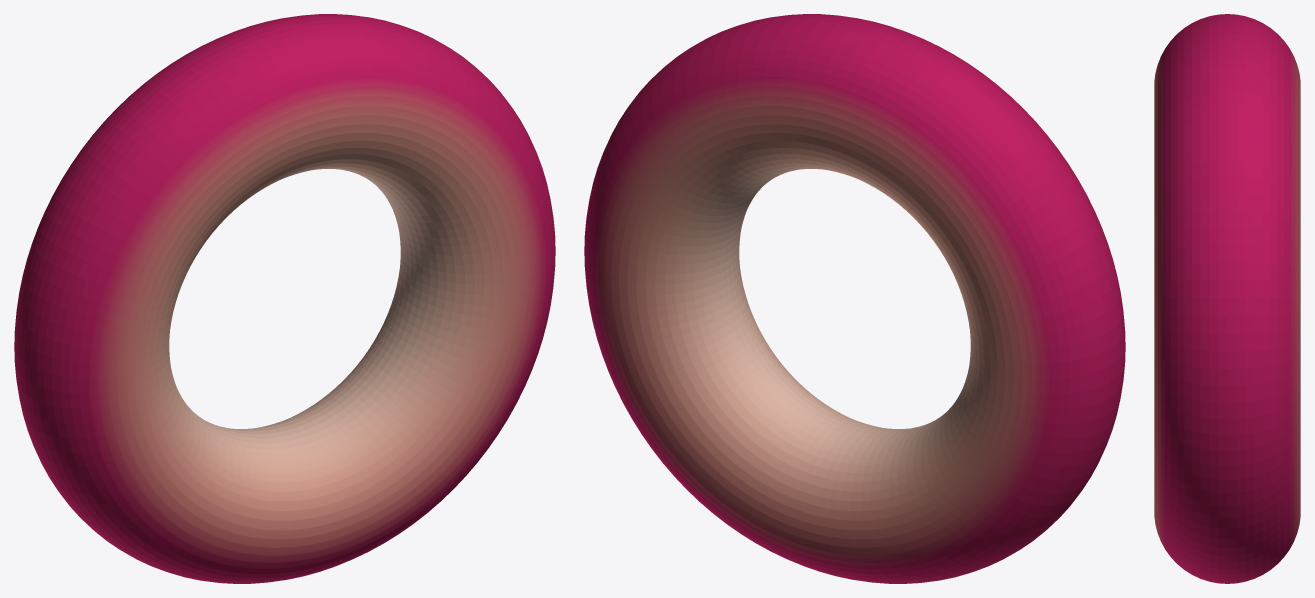
3 views of the same model, side by side, from view 1: azimuth 30°, elevation 25°; view 2: azimuth 150°, elevation 25°; view 3: azimuth 270°, elevation 25° (orthographic). The views are drawn at different scales.
Visible parts, largest first — view 1: world; view 2: world; view 3: world.
Boxes of the visible parts, x1=… form: world: x1=14, y1=14, x2=555, y2=583; world: x1=584, y1=14, x2=1125, y2=583; world: x1=1154, y1=14, x2=1300, y2=583.
Bounding box in the file's own units: 17.07 × 17.07 × 4.39.
